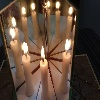fire: (41, 45, 45, 60)
